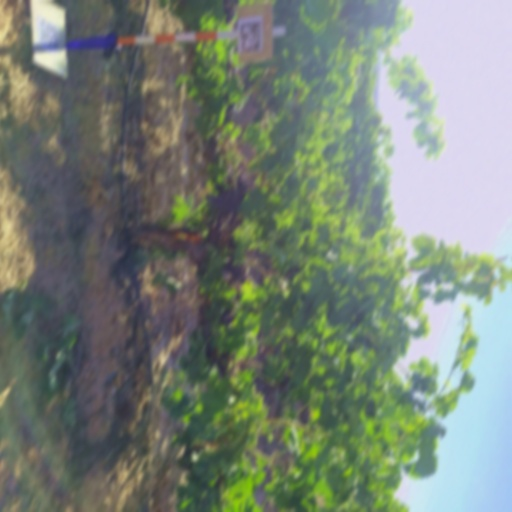QR: (243, 23, 262, 50)
